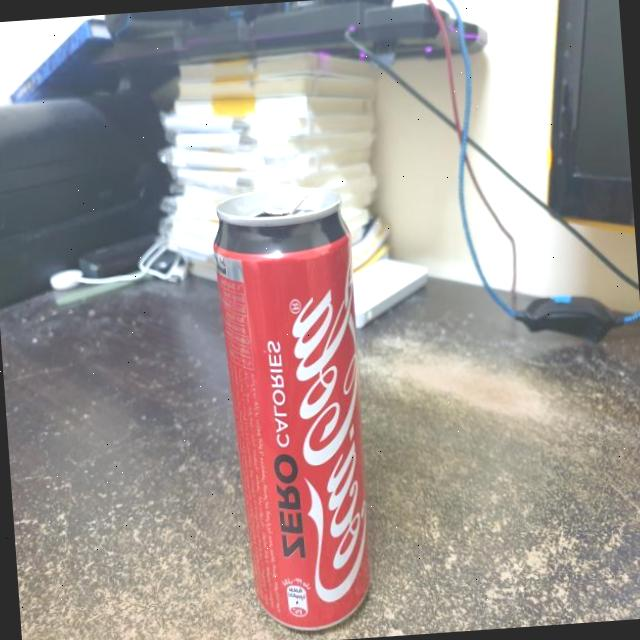trash: (208, 178, 402, 638)
